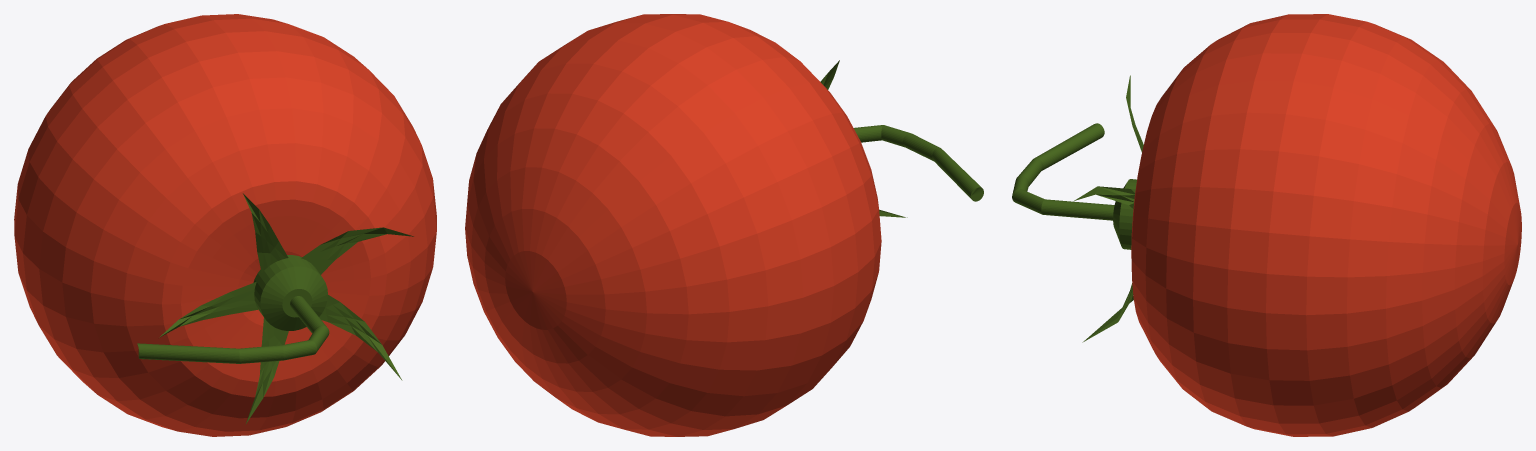
The model's file is TomatoFruit.obj.
The picture shows the model from 3 angles, left to right: view 1: azimuth 30°, elevation 25°; view 2: azimuth 150°, elevation 25°; view 3: azimuth 270°, elevation 25°; orthographic projection.
Visible parts, largest first — view 1: Sphere, Cylinder, Cylinder.001, bract.005, bract.003, bract.002, bract.004, bract; view 2: Sphere, Cylinder.001; view 3: Sphere, Cylinder.001, Cylinder, bract.003.
Boxes of the visible parts, box(x1,y1,x2,y2) form: Sphere: box(14, 14, 436, 436); Cylinder: box(253, 255, 327, 330); Cylinder.001: box(137, 296, 329, 363); bract.005: box(159, 282, 258, 337); bract.003: box(301, 227, 413, 274); bract.002: box(319, 295, 402, 380); bract.004: box(243, 193, 288, 272); bract: box(245, 318, 288, 424); Sphere: box(465, 14, 881, 436); Cylinder.001: box(853, 125, 983, 201); Sphere: box(1131, 14, 1521, 436); Cylinder.001: box(1012, 123, 1114, 220); Cylinder: box(1113, 179, 1136, 249); bract.003: box(1074, 186, 1135, 208).
Bounding box in the file's own units: 5.59 × 5.41 × 6.49.
